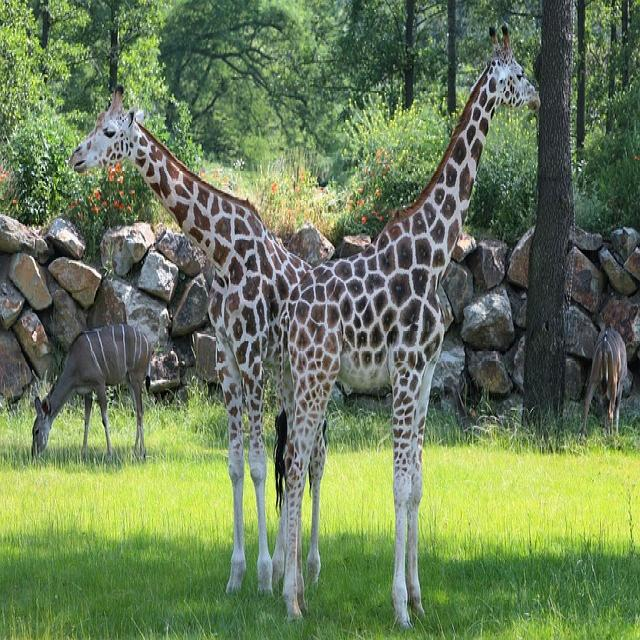Herbivorous: (283, 33, 537, 629), (72, 97, 306, 617), (32, 320, 153, 461)
